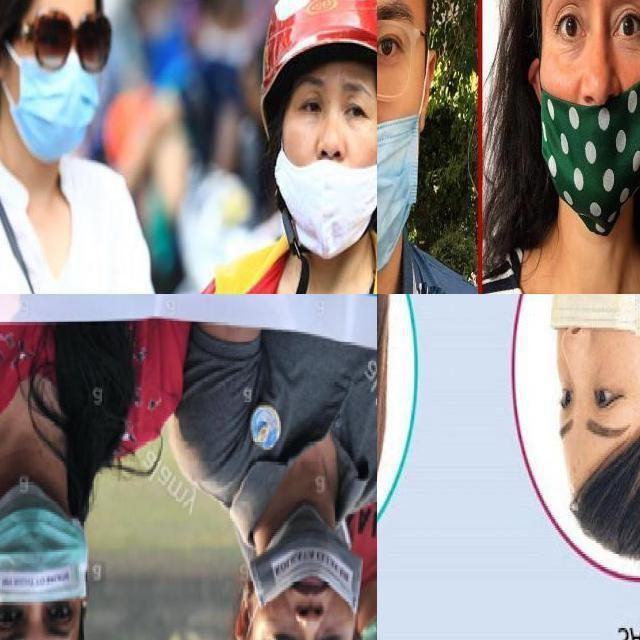hairnet: (526, 0, 639, 238), (244, 501, 365, 639), (274, 104, 376, 264), (548, 294, 639, 446)
mask: (1, 28, 103, 173), (0, 470, 96, 619)
no_gloves: (569, 425, 640, 563)
